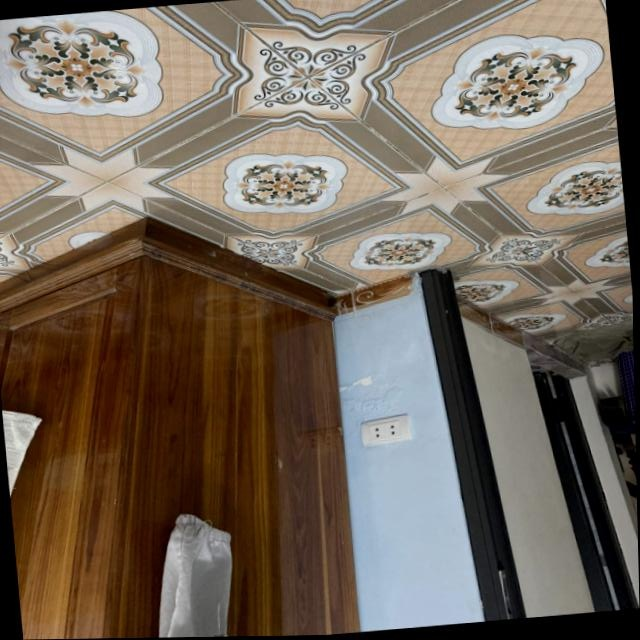outlet: (359, 415, 411, 449)
